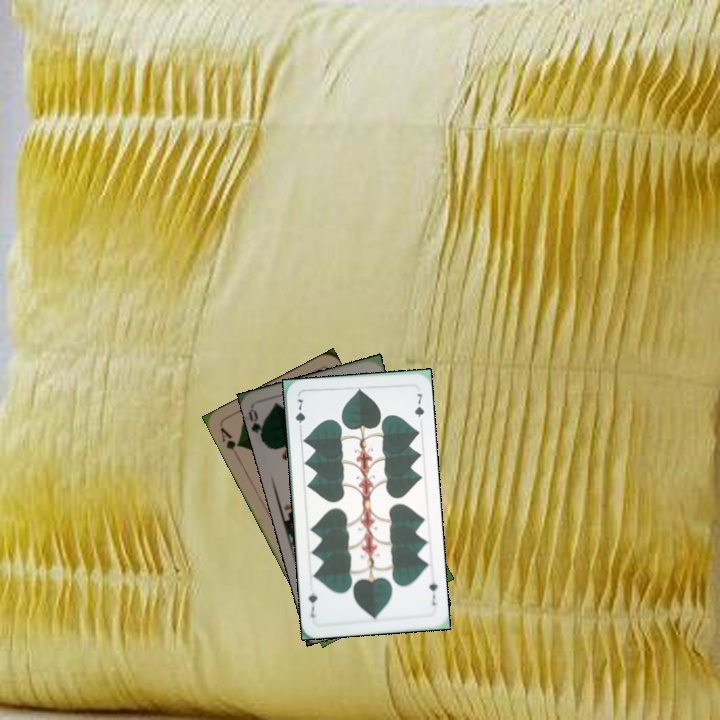G7: (291, 395, 308, 434), (425, 578, 440, 608)
GA: (216, 423, 243, 461)
GO: (245, 405, 268, 445)
